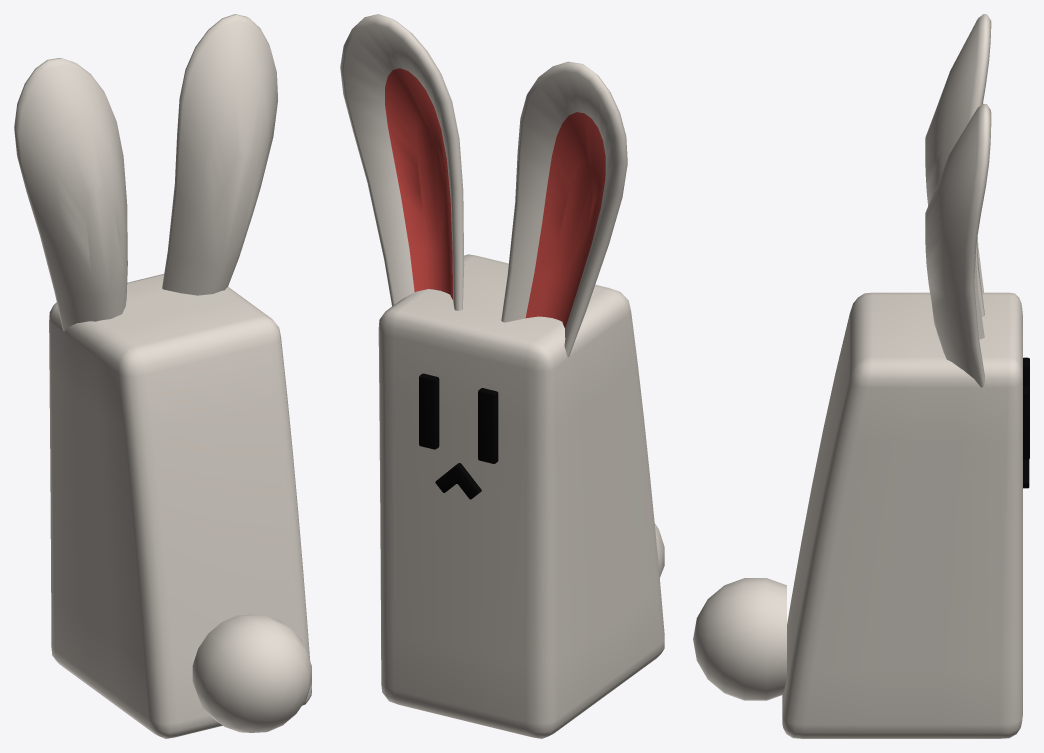
The model's file is Character_Rabbit_01a .fbx.
The picture shows the model from 3 angles, left to right: view 1: azimuth 30°, elevation 25°; view 2: azimuth 150°, elevation 25°; view 3: azimuth 270°, elevation 25°; orthographic projection. The views are drawn at different scales.
Parts seen in each view (by area): view 1: Character_Rabbit_01a; view 2: Character_Rabbit_01a; view 3: Character_Rabbit_01a.
Boxes of the visible parts, x1,y1,x2,y2 form: Character_Rabbit_01a: (14, 14, 311, 738); Character_Rabbit_01a: (340, 14, 664, 738); Character_Rabbit_01a: (693, 14, 1029, 738).
Size of the model in its own units: 22.07 by 50.14 by 23.78.
